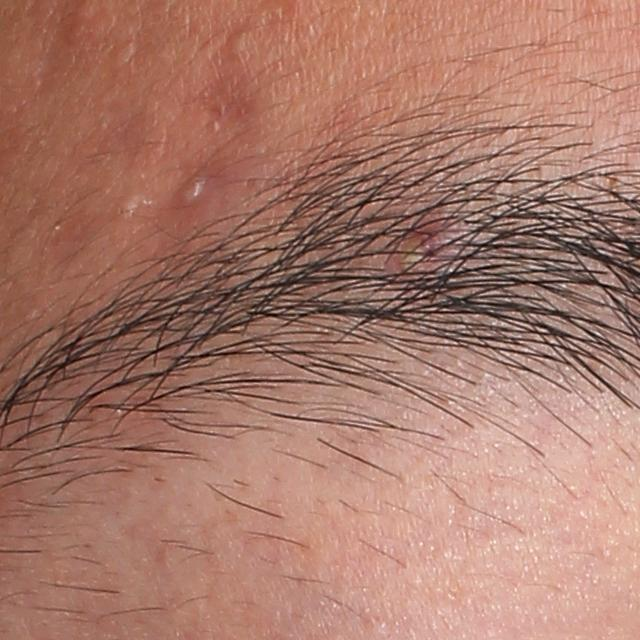comedo: (226, 28, 252, 61), (119, 185, 143, 218)
